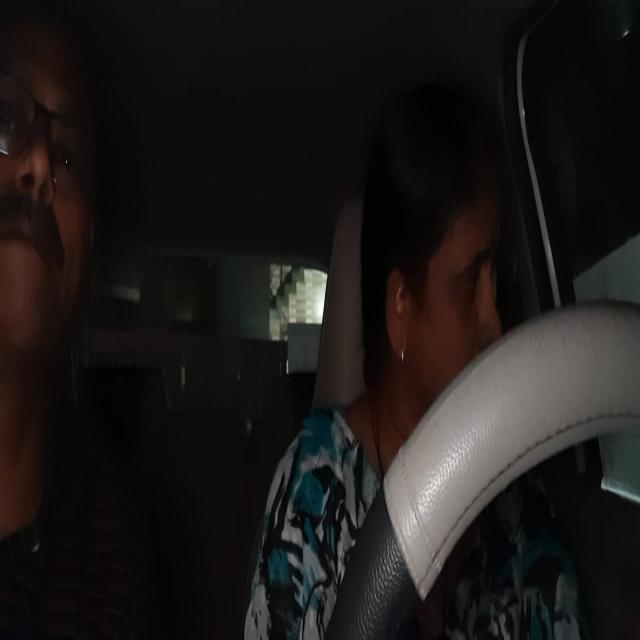LeftRight: (358, 87, 506, 441)
person: (3, 5, 110, 380)
